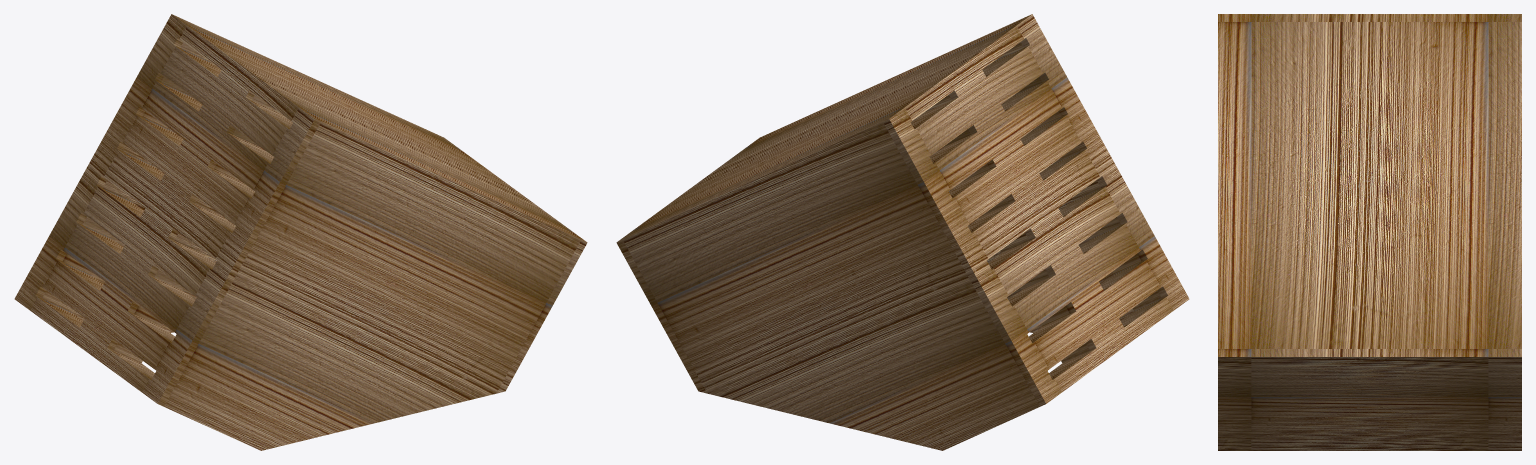
File: Kitchen_KnivesHolder.FBX
The picture shows the model from 3 angles, left to right: view 1: azimuth 30°, elevation 25°; view 2: azimuth 150°, elevation 25°; view 3: azimuth 270°, elevation 25°; orthographic projection. The views are drawn at different scales.
Parts seen in each view (by area): view 1: KitchenKnives_Holder; view 2: KitchenKnives_Holder; view 3: KitchenKnives_Holder.
Part boxes in pixels (x1,y1,x2,y2): KitchenKnives_Holder: (14,14,587,450); KitchenKnives_Holder: (616,14,1189,450); KitchenKnives_Holder: (1218,14,1521,450).
Size of the model in its own units: 0.2201 by 0.1561 by 0.127.
